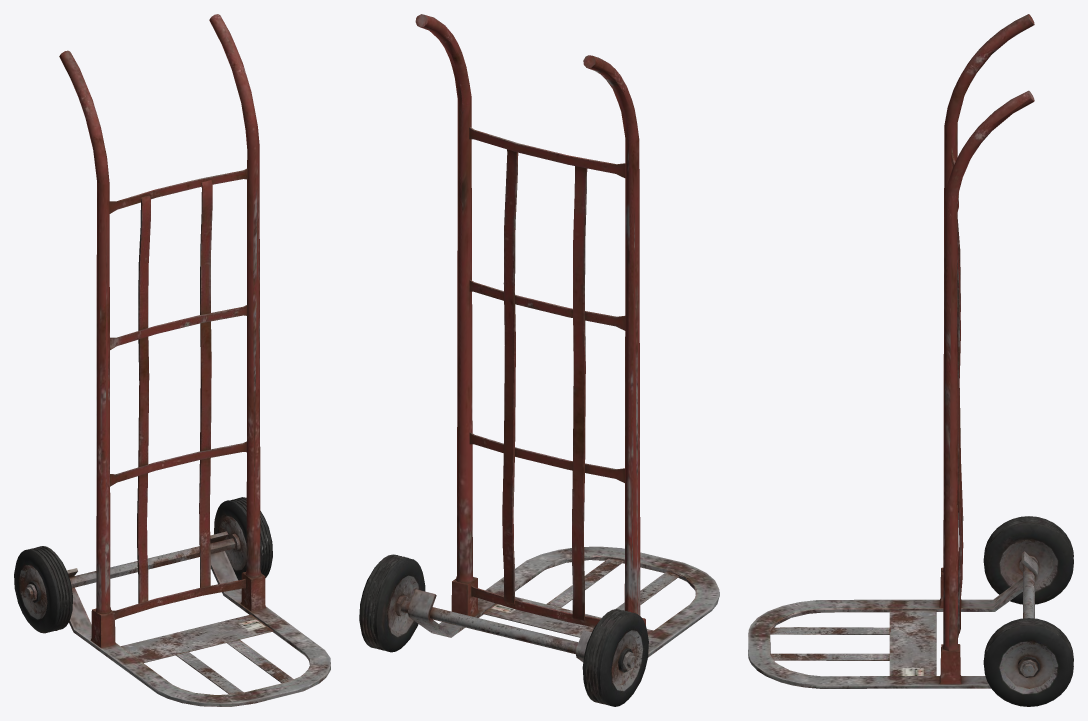
File: hand_truck.glb
3 views of the same model, side by side, from view 1: azimuth 30°, elevation 25°; view 2: azimuth 150°, elevation 25°; view 3: azimuth 270°, elevation 25° (orthographic). The views are drawn at different scales.
Parts seen in each view (by area): view 1: hand_truck; view 2: hand_truck; view 3: hand_truck.
Part boxes in pixels (bbox=[...]): hand_truck: bbox=[14, 14, 330, 706]; hand_truck: bbox=[359, 14, 719, 706]; hand_truck: bbox=[748, 14, 1073, 706].
Size of the model in its own units: 0.5933 by 1.4 by 0.6922.
1 material, 1 textured.
